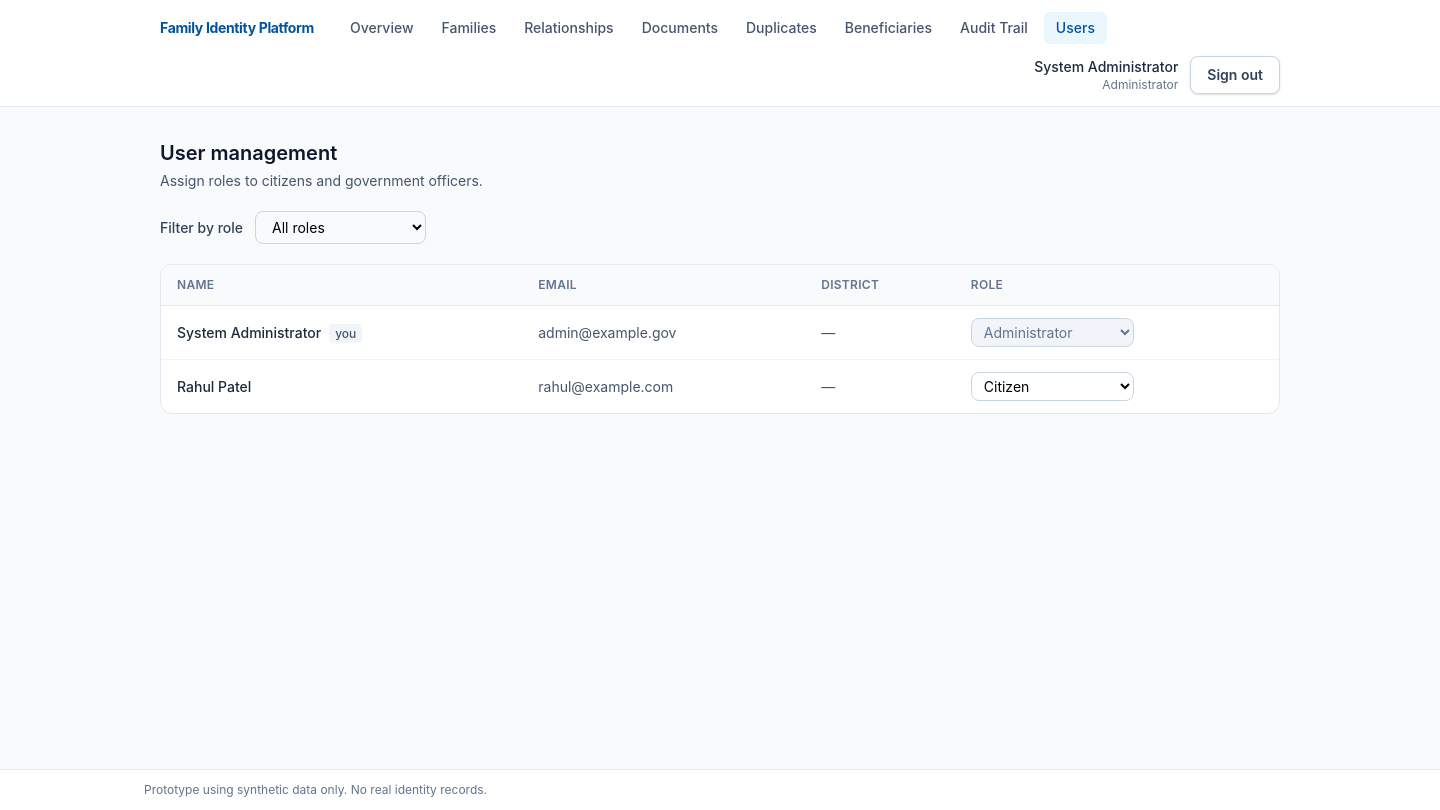
Test case: AdminUsersPage › surfaces a rejected role change
Select "Administrator" in the dropdown named "role for rahul patel" at {"x": 1052, "y": 386}, box x1=971 y1=372 x2=1134 y2=401
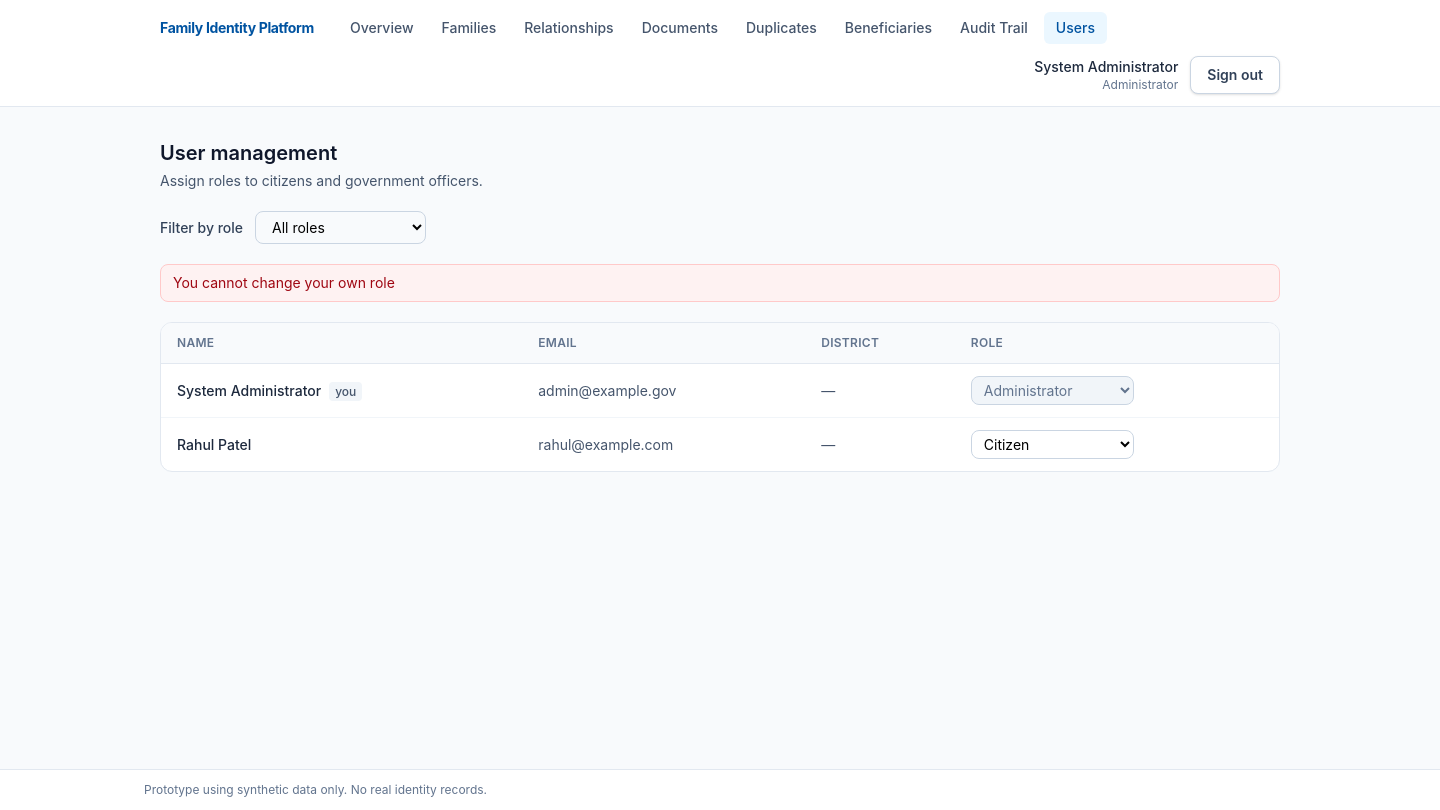
Expected: the message shows "cannot change your own role", x1=173 y1=274 x2=395 y2=291
